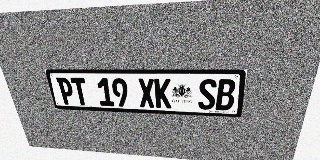1: (96, 78, 115, 106)
9: (111, 78, 129, 107)
B: (215, 79, 236, 111)
K: (154, 78, 171, 108)
P: (56, 77, 76, 105)
S: (198, 79, 217, 110)
T: (70, 78, 90, 105)
X: (137, 78, 155, 108)
